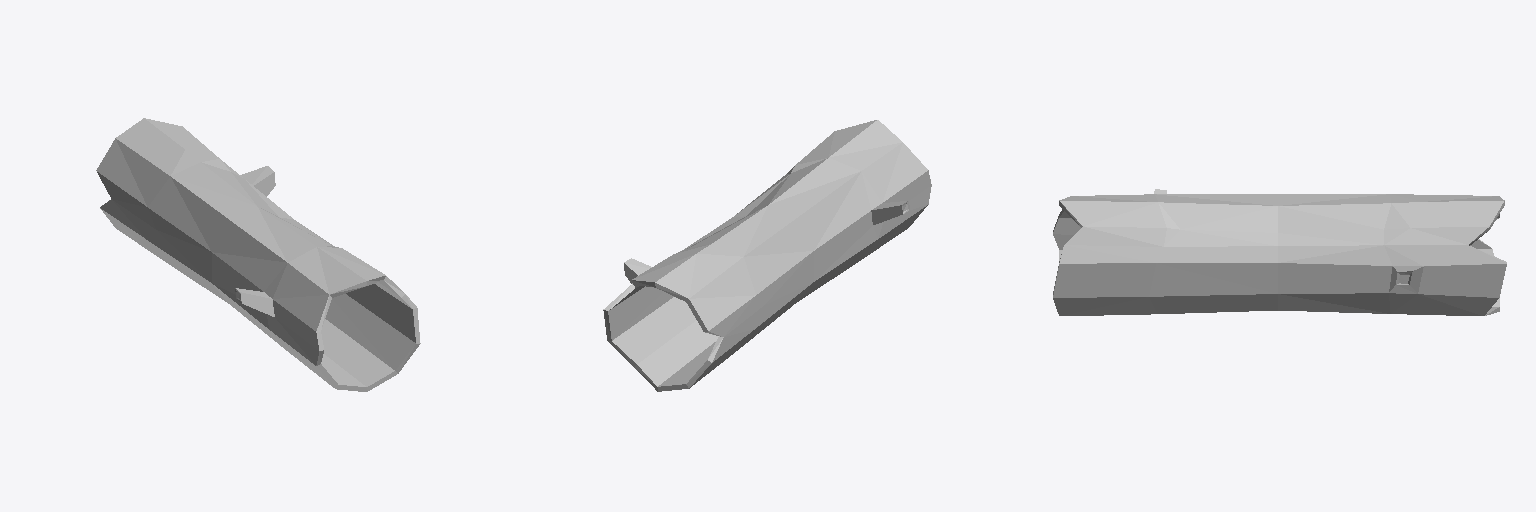
File: log7.obj
3 views of the same model, side by side, from view 1: azimuth 30°, elevation 25°; view 2: azimuth 150°, elevation 25°; view 3: azimuth 270°, elevation 25° (orthographic).
Visible parts, largest first — view 1: Stump2_Cylinder.005; view 2: Stump2_Cylinder.005; view 3: Stump2_Cylinder.005.
Boxes of the visible parts, x1,y1,x2,y2 form: Stump2_Cylinder.005: [96, 118, 420, 391]; Stump2_Cylinder.005: [603, 120, 931, 391]; Stump2_Cylinder.005: [1053, 189, 1506, 315].
Bounding box in the file's own units: 2.16 × 1.47 × 5.44.